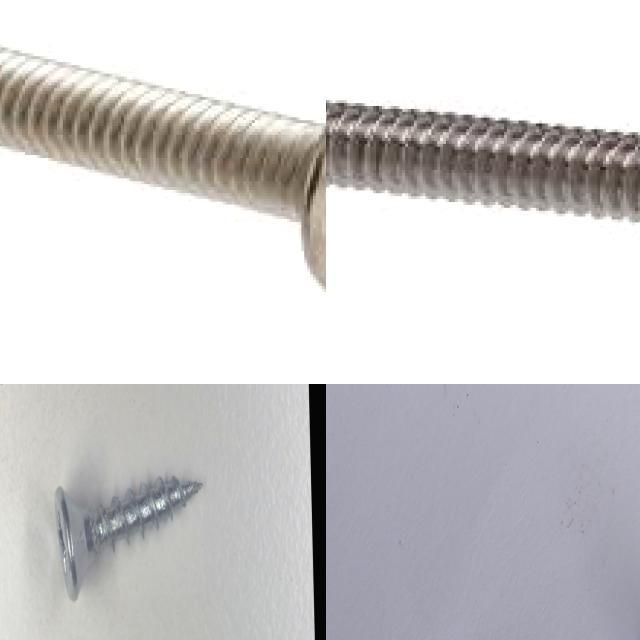Screw: (0, 41, 326, 291), (326, 103, 640, 224), (54, 476, 202, 600)
